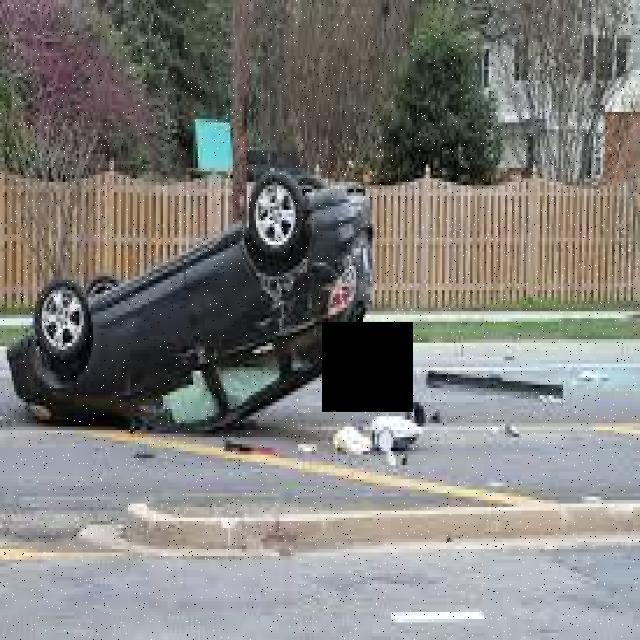accident: (5, 171, 375, 441)
